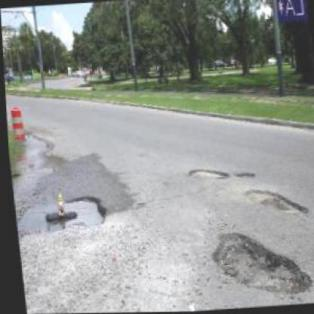Hueco: (205, 226, 311, 302), (13, 190, 107, 238), (241, 184, 306, 219), (185, 167, 227, 179), (233, 170, 254, 179)
